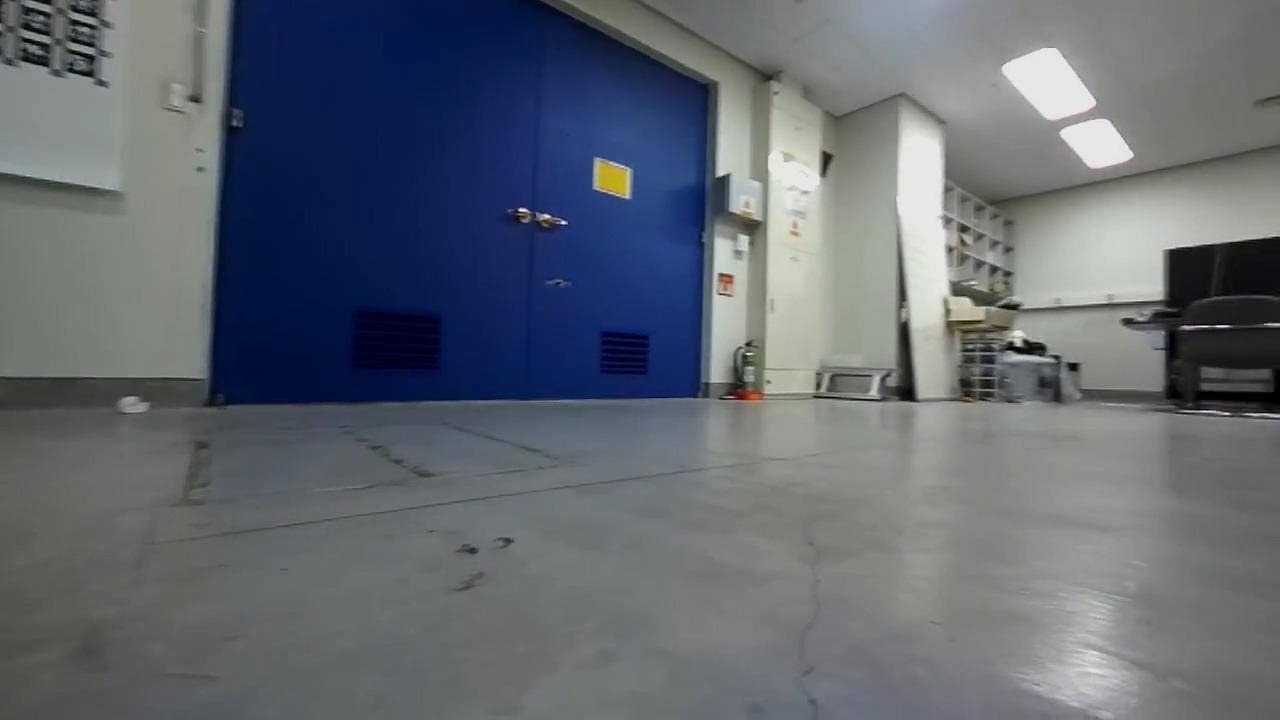crazyflie: (536, 275, 580, 292)
